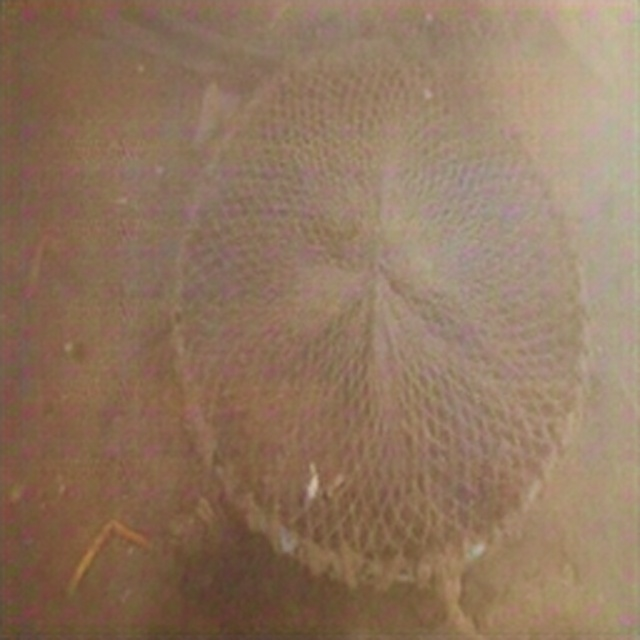mine: (171, 26, 594, 584)
